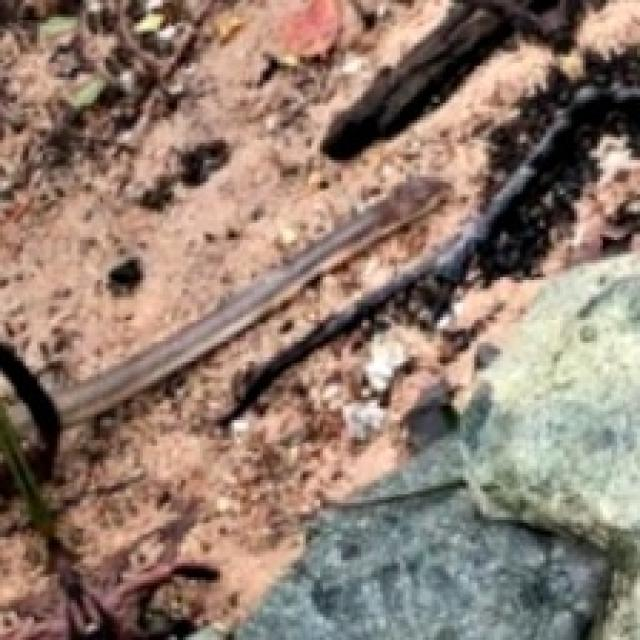king cobra: (56, 176, 448, 426), (10, 402, 32, 436)
